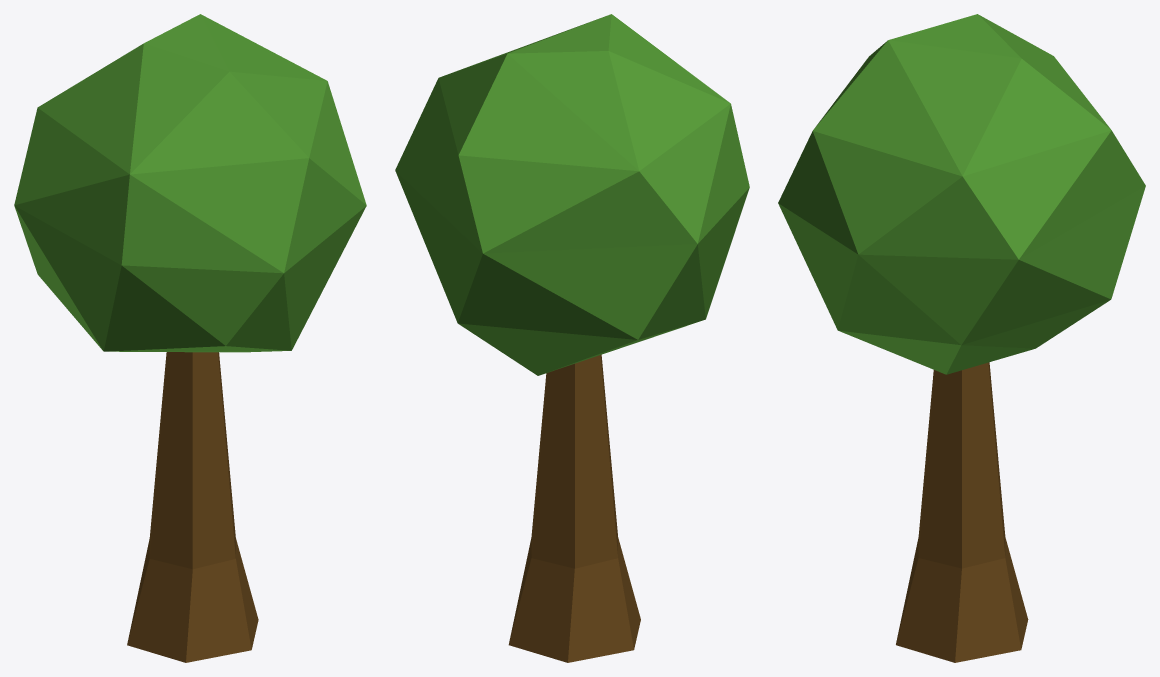
The model's file is tree1.glb.
The picture shows the model from 3 angles, left to right: view 1: azimuth 30°, elevation 25°; view 2: azimuth 150°, elevation 25°; view 3: azimuth 270°, elevation 25°; orthographic projection.
Visible parts, largest first — view 1: tree1; view 2: tree1; view 3: tree1.
Part boxes in pixels (left/top/right/bottom): tree1: left=14, top=14, right=366, bottom=662; tree1: left=395, top=14, right=749, bottom=662; tree1: left=778, top=14, right=1145, bottom=662.
Bounding box in the file's own units: 3.57 × 6.74 × 3.76.
